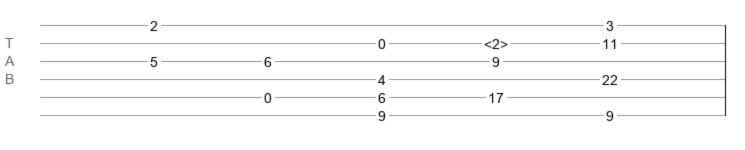0: (264, 90, 272, 100), (378, 36, 386, 46)
11: (602, 36, 618, 46)
17: (488, 90, 504, 100)
2: (150, 18, 158, 28)
22: (602, 72, 618, 82)
3: (606, 18, 614, 28)
4: (378, 72, 386, 82)
5: (150, 54, 158, 64)
6: (264, 54, 272, 64), (378, 90, 386, 100)
9: (378, 108, 386, 118), (492, 54, 500, 64), (606, 108, 614, 118)
harmonic: (484, 36, 508, 46)
